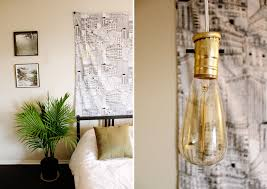bulb: (177, 61, 233, 172)
